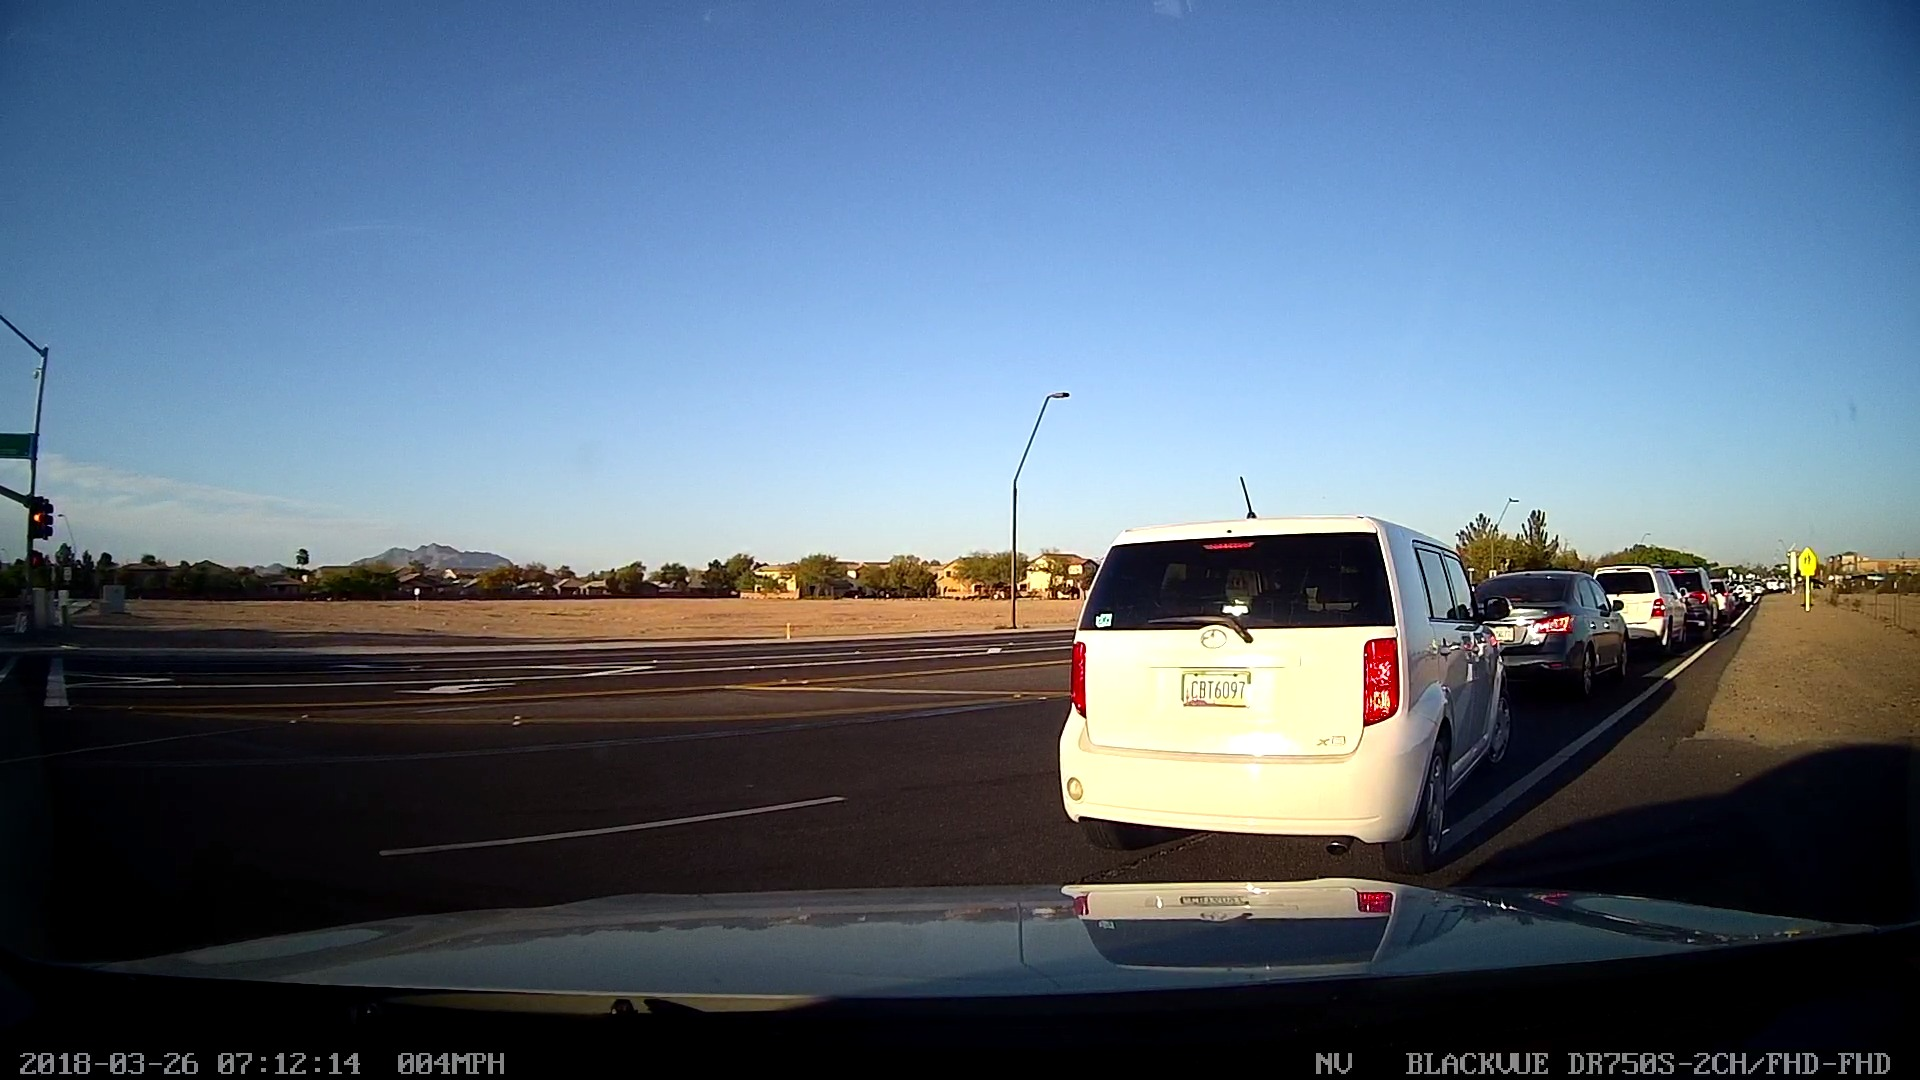plate: (1178, 668, 1251, 718), (1486, 623, 1516, 652)
vehicle: (1059, 522, 1513, 829), (1469, 564, 1644, 692), (1596, 559, 1685, 649), (1677, 564, 1732, 636)
